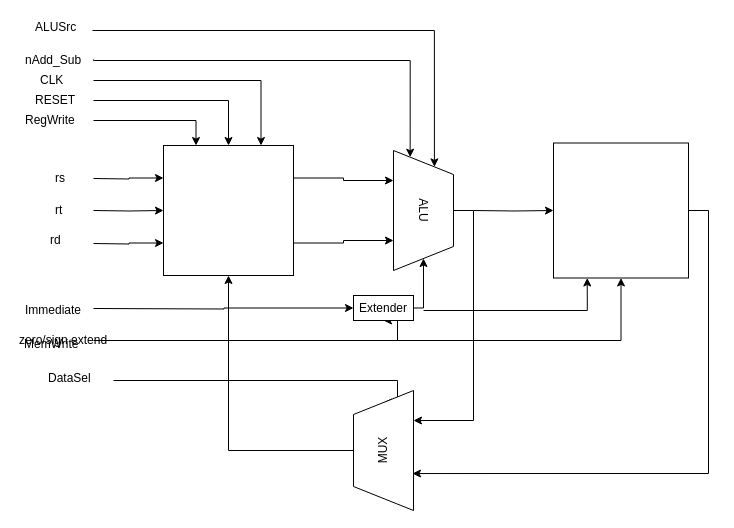
This 734x528 diagram has some shape labels left out. Here are the shapes that lost their labels. From the top down, the centre of each, then its label:
(228,210): Register File
(620,210): Data Memory
